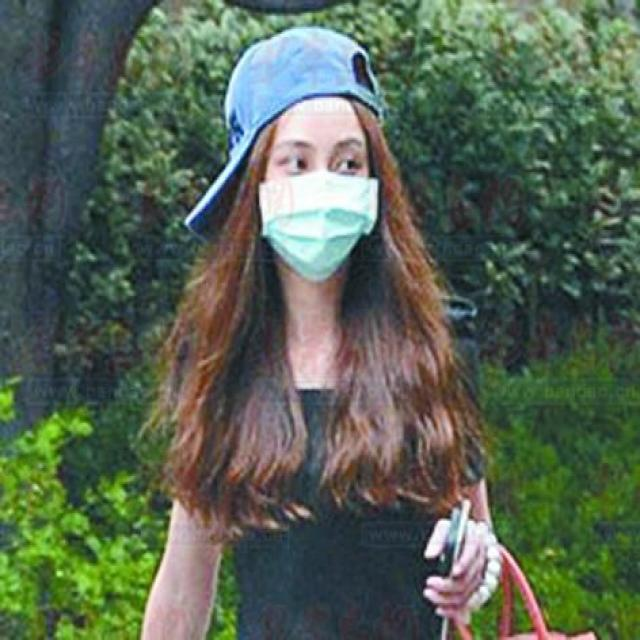mask: (255, 99, 371, 271)
